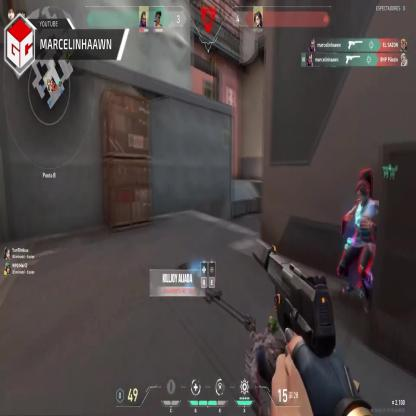enemy: (335, 170, 383, 312)
enemy_head: (355, 178, 369, 202)
